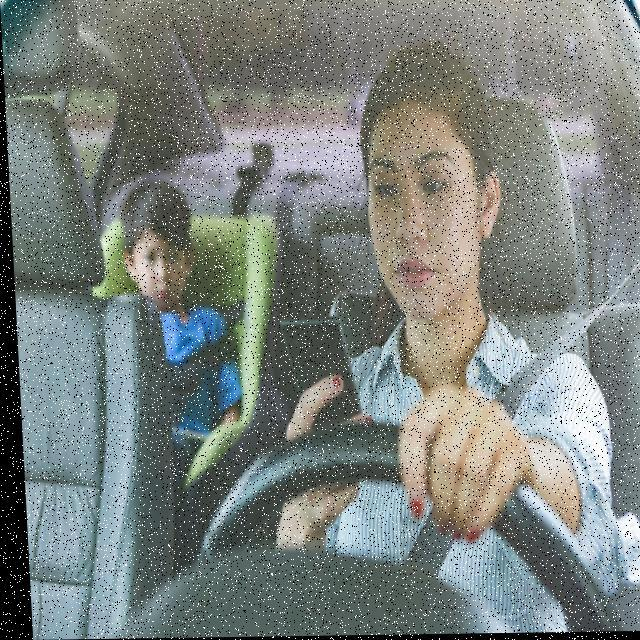seatbelt: (347, 282, 595, 588)
